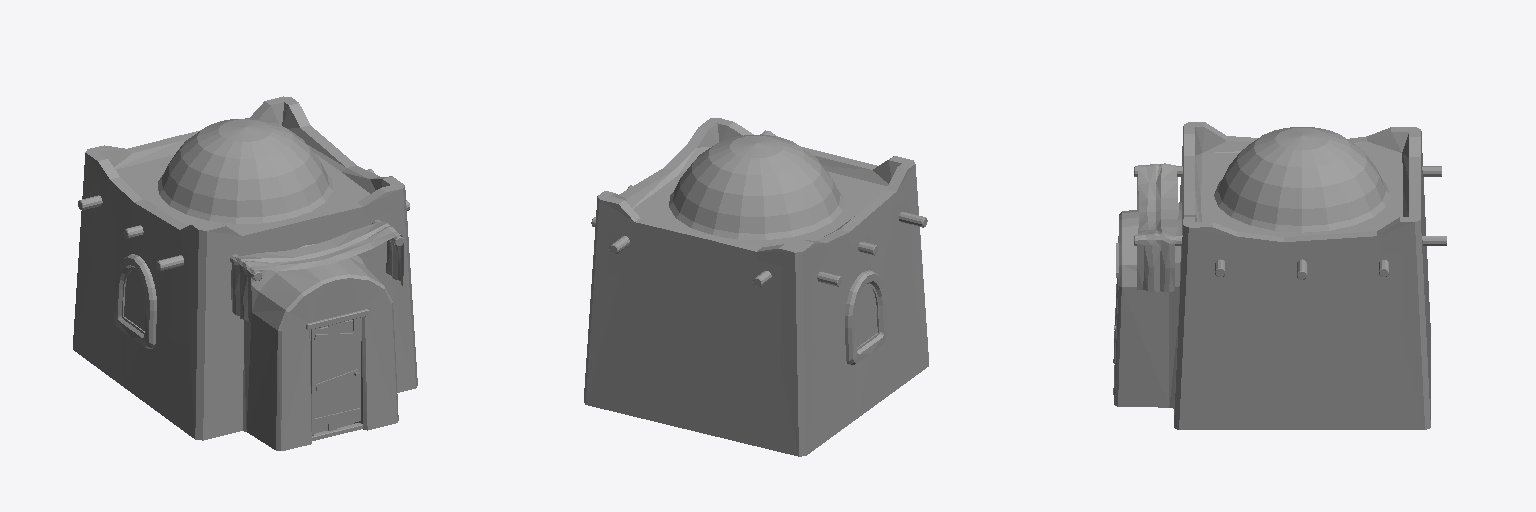
File: House_Lil.obj
3 renders of one model, left to right at view 1: azimuth 30°, elevation 25°; view 2: azimuth 150°, elevation 25°; view 3: azimuth 270°, elevation 25°, orthographic.
Parts seen in each view (by area): view 1: Cube:298_Cube:115.003_Cube:298_Cube:115.002, Plane:048_Plane:027.001_Plane:048_Plane:027.003, Sphere:001_Sphere:002.001_Sphere:001_Sphere:002.003, Plane:044_Plane:023.000_Plane:044_Plane:023.002, Cube.273_Cube.091, Cube:339_Cube:155.001, Plane.039_Plane.003, Plane.040_Plane.003, Plane.057_Plane.003, Plane.056_Plane.003, Cube:342_Cube:158.001, Plane.041_Plane.003; view 2: Cube:298_Cube:115.003_Cube:298_Cube:115.002, Sphere:001_Sphere:002.001_Sphere:001_Sphere:002.003, Plane.051_Plane.003, Cube:339_Cube:155.001, Plane.039_Plane.003, Plane.040_Plane.003, Plane.042_Plane.003, Cube:342_Cube:158.001, Plane.041_Plane.003; view 3: Cube:298_Cube:115.003_Cube:298_Cube:115.002, Sphere:001_Sphere:002.001_Sphere:001_Sphere:002.003, Plane:048_Plane:027.001_Plane:048_Plane:027.003, Plane:044_Plane:023.000_Plane:044_Plane:023.002, Plane.052_Plane.003, Plane.053_Plane.003, Plane.054_Plane.003.
Boxes of the visible parts, x1,y1,x2,y2 form: Cube:298_Cube:115.003_Cube:298_Cube:115.002: [73, 96, 417, 440]; Plane:048_Plane:027.001_Plane:048_Plane:027.003: [243, 244, 398, 450]; Sphere:001_Sphere:002.001_Sphere:001_Sphere:002.003: [158, 118, 332, 223]; Plane:044_Plane:023.000_Plane:044_Plane:023.002: [231, 221, 403, 322]; Cube.273_Cube.091: [311, 317, 361, 435]; Cube:339_Cube:155.001: [114, 254, 156, 348]; Plane.039_Plane.003: [168, 240, 190, 349]; Plane.040_Plane.003: [87, 184, 108, 263]; Plane.057_Plane.003: [359, 212, 392, 300]; Plane.056_Plane.003: [218, 246, 249, 321]; Cube:342_Cube:158.001: [124, 270, 145, 330]; Plane.041_Plane.003: [130, 217, 149, 267]; Cube:298_Cube:115.003_Cube:298_Cube:115.002: [584, 118, 928, 456]; Sphere:001_Sphere:002.001_Sphere:001_Sphere:002.003: [669, 135, 843, 239]; Plane.051_Plane.003: [748, 259, 781, 363]; Cube:339_Cube:155.001: [845, 270, 887, 365]; Plane.039_Plane.003: [891, 198, 913, 306]; Plane.040_Plane.003: [810, 261, 830, 341]; Plane.042_Plane.003: [608, 231, 640, 280]; Cube:342_Cube:158.001: [856, 286, 877, 346]; Plane.041_Plane.003: [851, 234, 870, 283]; Cube:298_Cube:115.003_Cube:298_Cube:115.002: [1174, 122, 1430, 429]; Sphere:001_Sphere:002.001_Sphere:001_Sphere:002.003: [1214, 127, 1389, 232]; Plane:048_Plane:027.001_Plane:048_Plane:027.003: [1113, 202, 1181, 408]; Plane:044_Plane:023.000_Plane:044_Plane:023.002: [1137, 163, 1178, 291]; Plane.052_Plane.003: [1284, 251, 1320, 347]; Plane.053_Plane.003: [1364, 254, 1400, 322]; Plane.054_Plane.003: [1201, 258, 1238, 299].
Size of the model in its own units: 4.47 by 4.04 by 5.05.